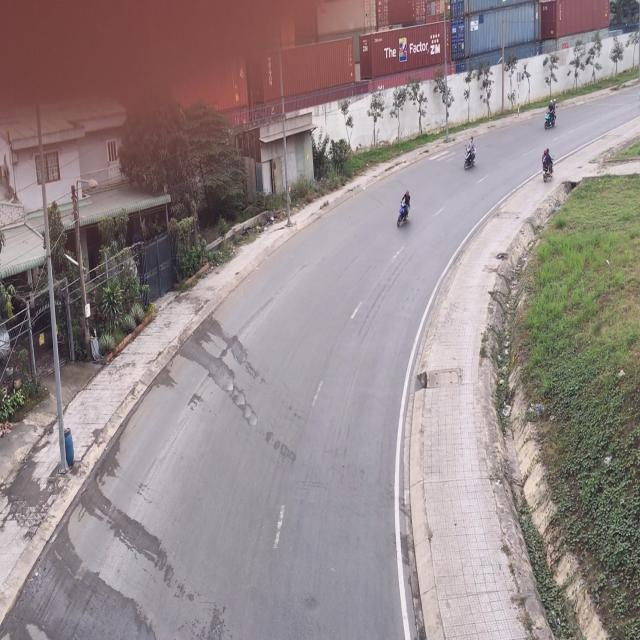motorbike: (396, 190, 414, 233), (540, 147, 554, 185), (542, 92, 556, 129), (462, 136, 476, 172)
